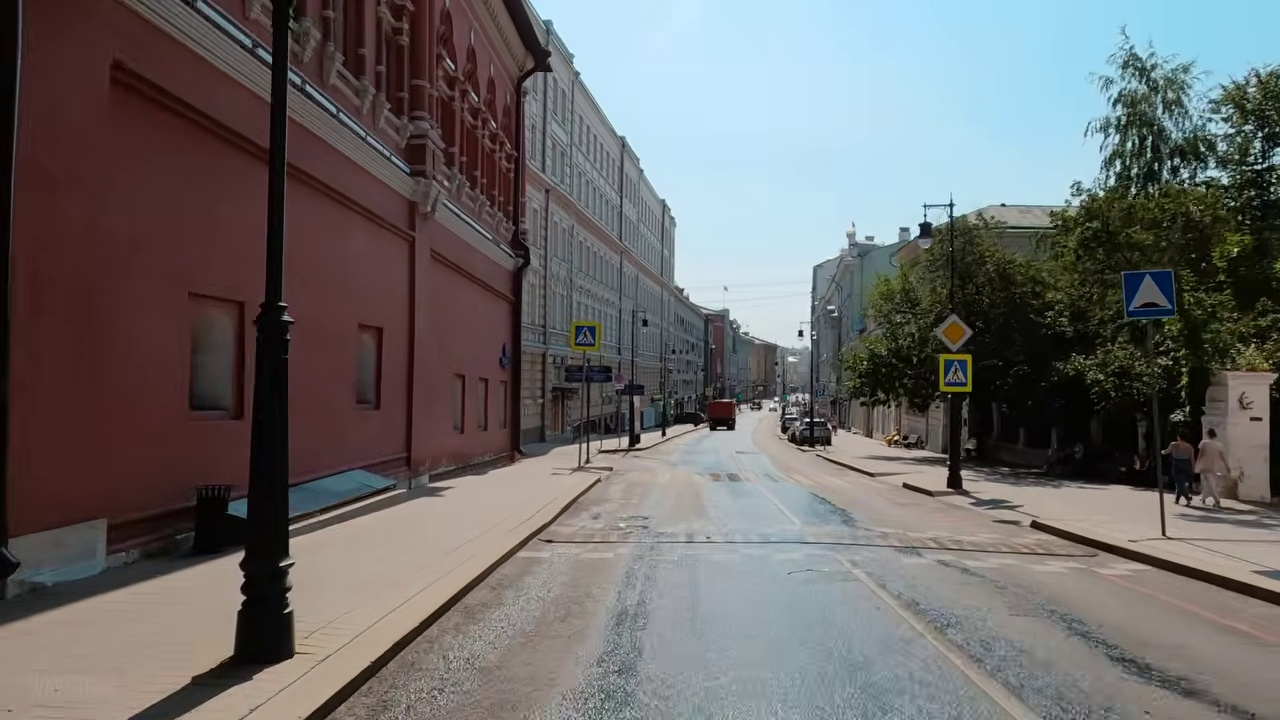apagada: (914, 219, 939, 252)
